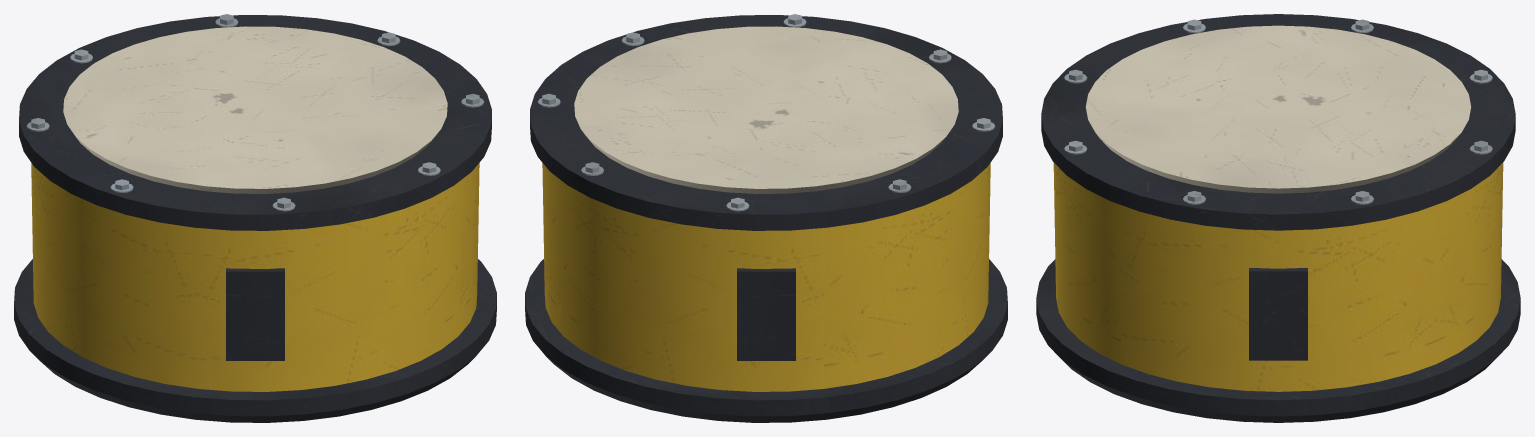
Rendered from stand_support.glb.
The picture shows the model from 3 angles, left to right: view 1: azimuth 30°, elevation 25°; view 2: azimuth 150°, elevation 25°; view 3: azimuth 270°, elevation 25°; orthographic projection.
Parts seen in each view (by area): view 1: Body.004; view 2: Body.004; view 3: Body.004.
Boxes of the visible parts, bbox=[...] form: Body.004: bbox=[14, 14, 496, 422]; Body.004: bbox=[525, 14, 1007, 422]; Body.004: bbox=[1036, 14, 1520, 422].
Bounding box in the file's own units: 0.49 × 0.243 × 0.49.
4 materials, 4 textured.
